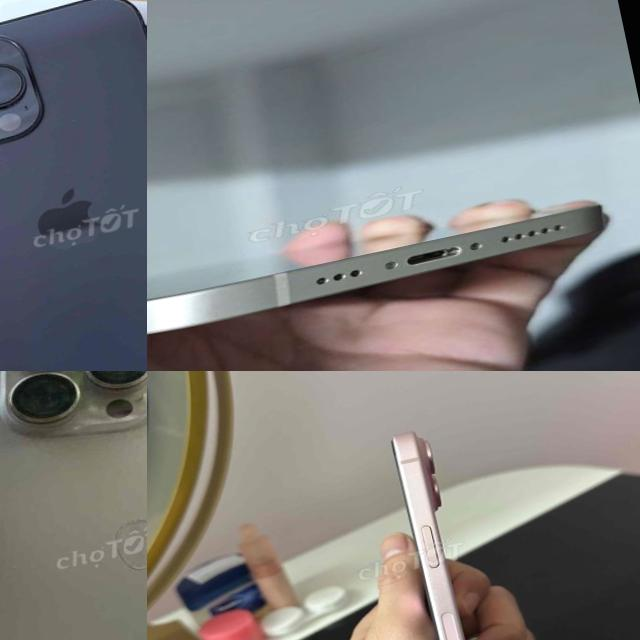gen_14: (147, 162, 638, 371), (0, 0, 147, 371)
gen_15: (357, 416, 525, 640)
gen_16: (0, 371, 147, 640)
